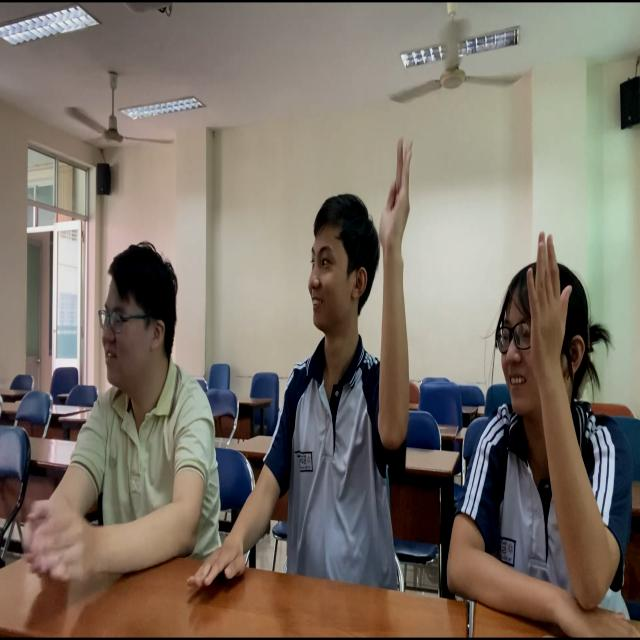raise_hand: (255, 130, 430, 600), (463, 224, 640, 640)
